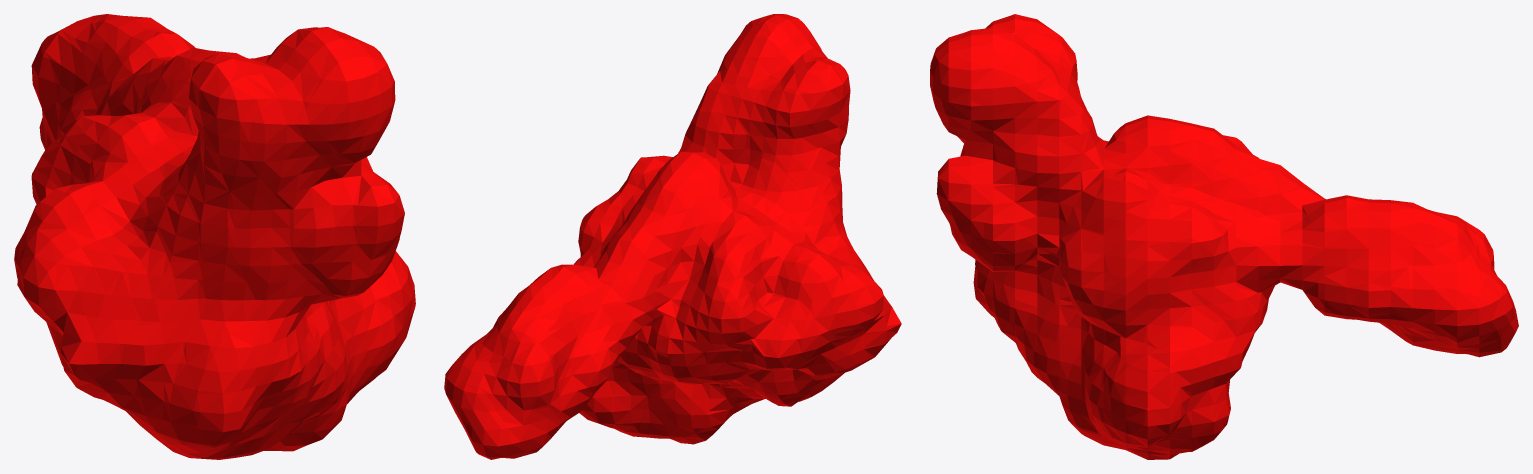
File: hscA_coarse.dae
The picture shows the model from 3 angles, left to right: view 1: azimuth 30°, elevation 25°; view 2: azimuth 150°, elevation 25°; view 3: azimuth 270°, elevation 25°; orthographic projection. The views are drawn at different scales.
Visible parts, largest first — view 1: hscA; view 2: hscA; view 3: hscA.
Part boxes in pixels (x1=…): hscA: x1=14, y1=14, x2=415, y2=459; hscA: x1=444, y1=14, x2=901, y2=459; hscA: x1=930, y1=14, x2=1518, y2=459.
Bounding box in the file's own units: 67.65 × 77.61 × 104.
